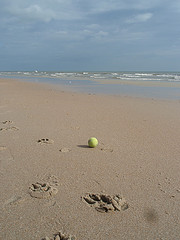tennis ball: (86, 134, 98, 147)
